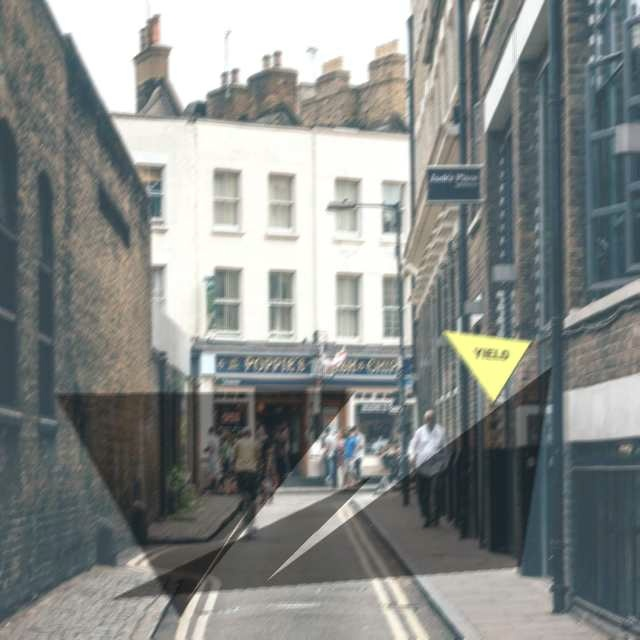YIELD: (442, 331, 533, 405)
